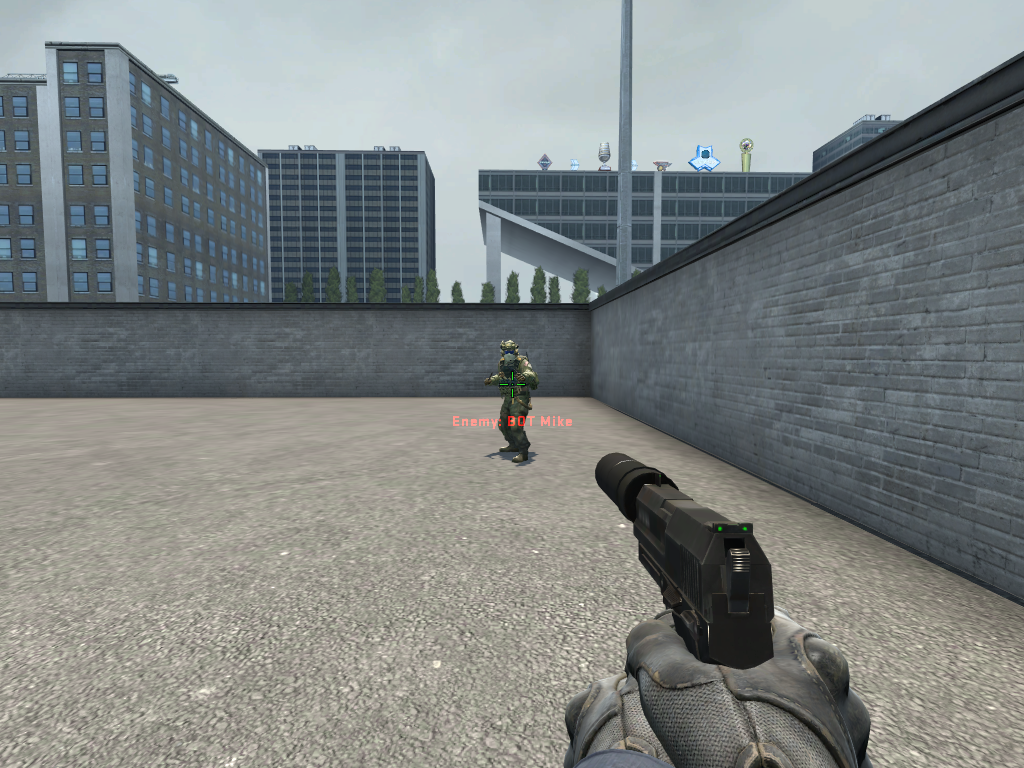ct head: (500, 340, 520, 362)
